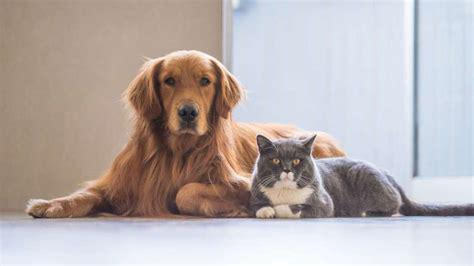cat: (250, 135, 474, 217)
dog: (26, 50, 344, 218)
